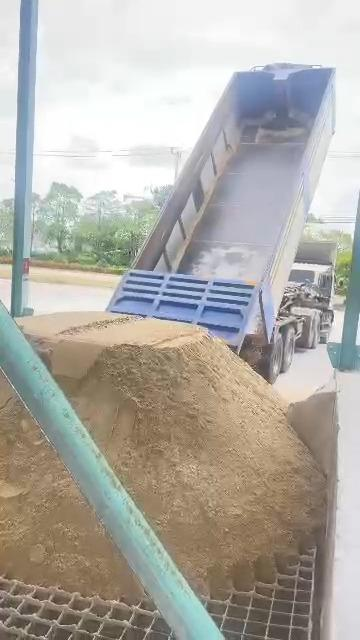sand: (23, 313, 324, 592), (0, 378, 139, 598), (287, 381, 338, 480)
